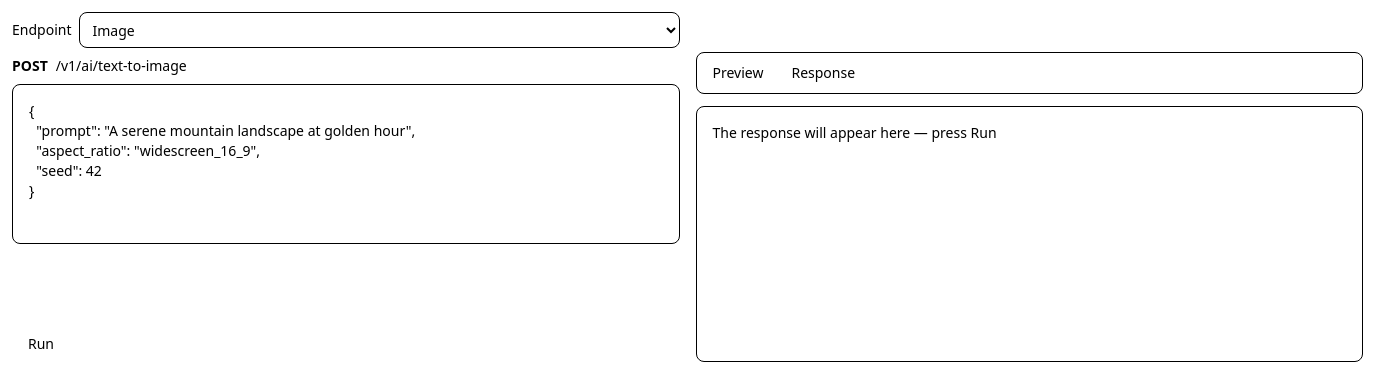
Test: ApiRequestPlayer › the selector changes method/path/body and resets the player to idle
Click the button "Run": [41, 344] box [12,326,70,362]
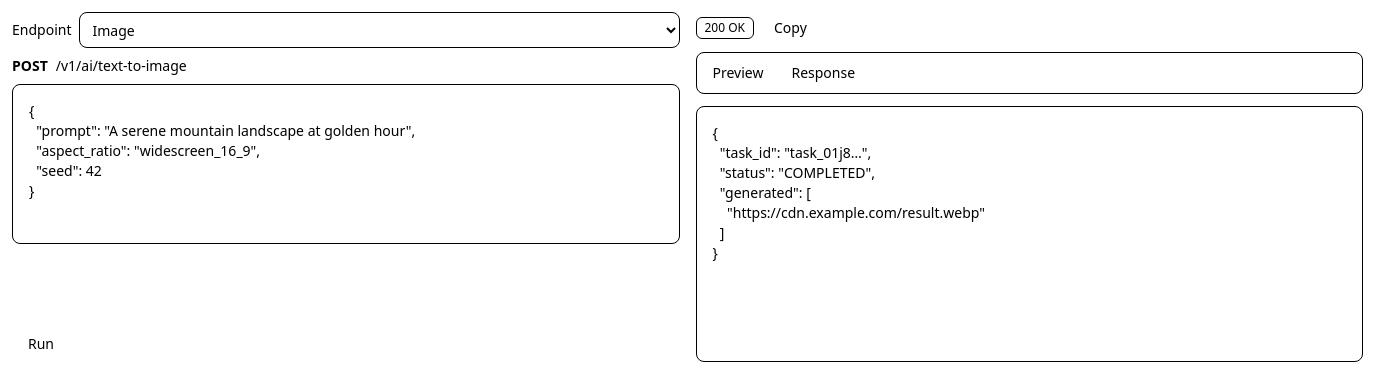
Select "Error" in the dropdown labelled "Endpoint": [380, 30] box [80,12,680,48]
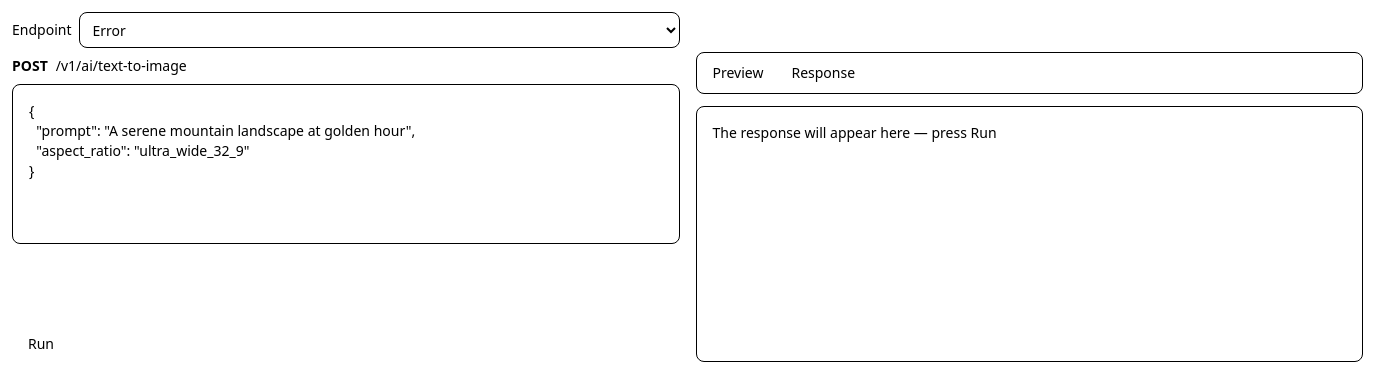
Expected: the text "/v1/ai/text-to-image" is shown, [56,56,187,76]
Expected: the text "ultra_wide_32_9" is shown, [29,101,415,180]
Expected: the text "The response will appear here — press Run" is shown, [696,106,1363,362]
